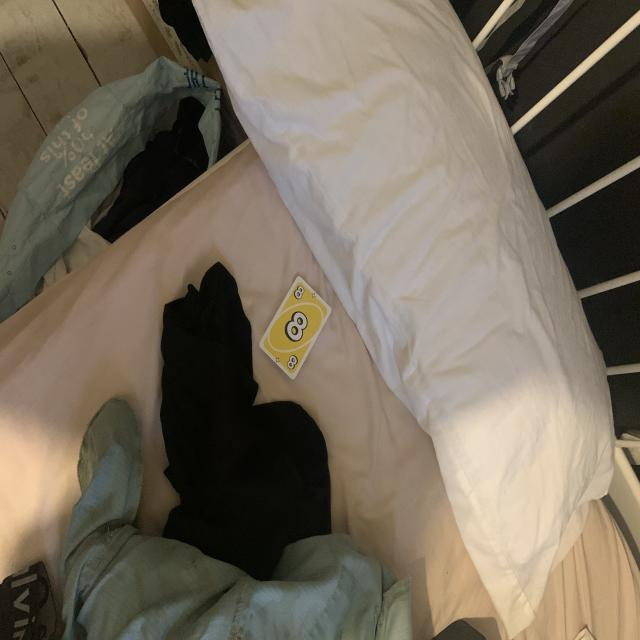lyellow-8: (292, 284, 307, 300)
